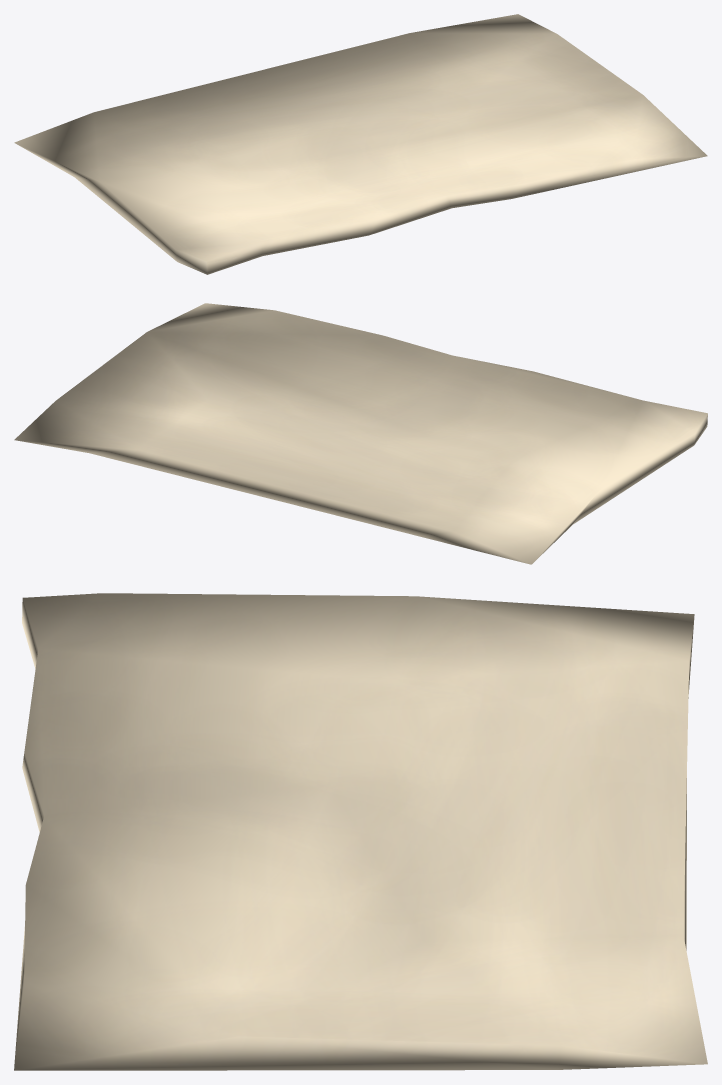
File: Paper_01.fbx
The picture shows the model from 3 angles, top to bottom: view 1: azimuth 30°, elevation 25°; view 2: azimuth 150°, elevation 25°; view 3: azimuth 270°, elevation 25°; orthographic projection. The views are drawn at different scales.
Parts seen in each view (by area): view 1: Paper_01; view 2: Paper_01; view 3: Paper_01.
Part boxes in pixels (left/top/right/bottom): Paper_01: left=14, top=14, right=707, bottom=274; Paper_01: left=14, top=303, right=707, bottom=564; Paper_01: left=14, top=593, right=707, bottom=1070.
Size of the model in its own units: 40.76 by 1.78 by 26.32.
1 material, 1 textured.
